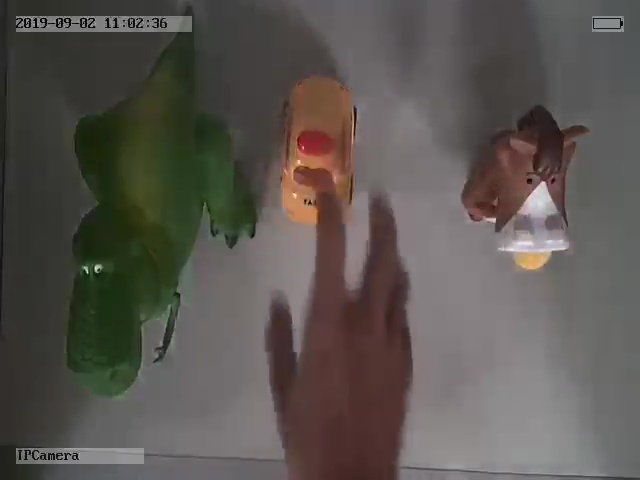car: (284, 72, 357, 223)
horse: (459, 102, 587, 272)
rex: (61, 37, 257, 398)
